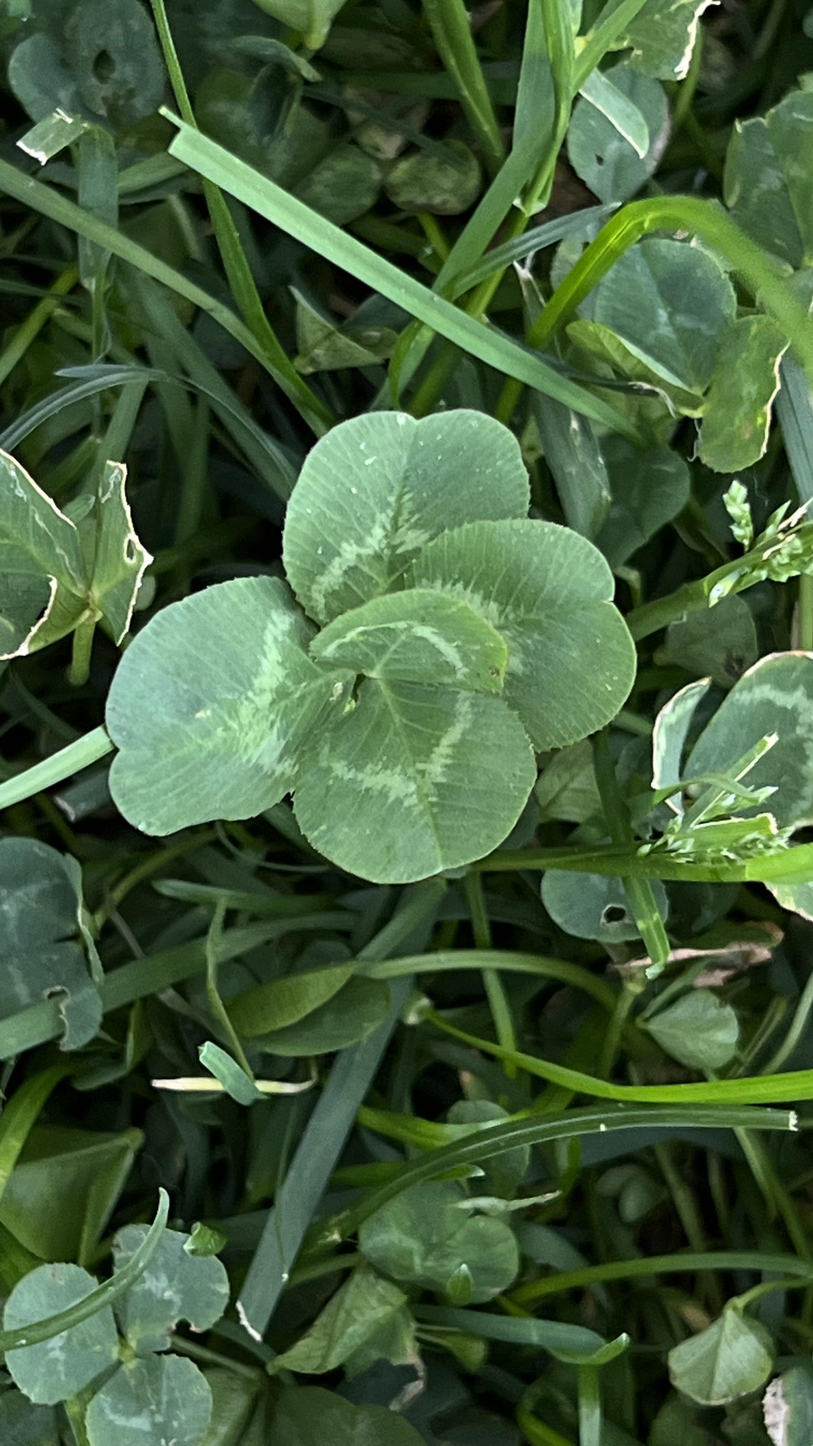5-Leaf-Clovers: (108, 402, 639, 879)
